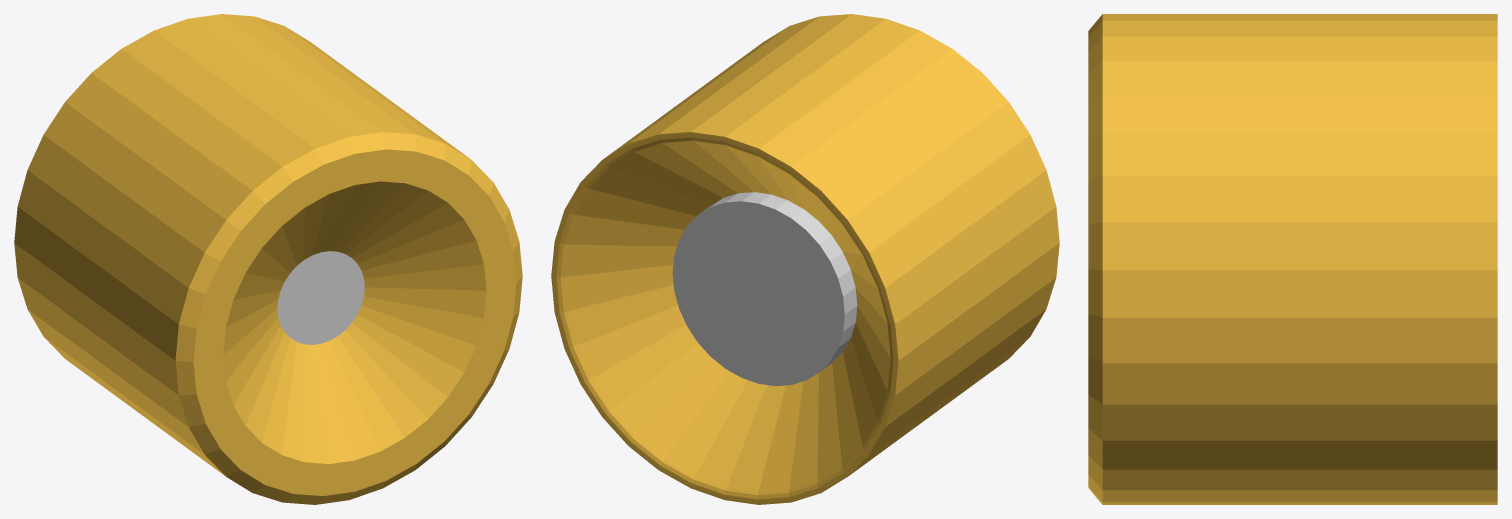
File: Wheel.glb
3 renders of one model, left to right at view 1: azimuth 30°, elevation 25°; view 2: azimuth 150°, elevation 25°; view 3: azimuth 270°, elevation 25°, orthographic. The views are drawn at different scales.
Parts seen in each view (by area): view 1: Cylinder; view 2: Cylinder; view 3: Cylinder.
Boxes of the visible parts, box(x1,y1,x2,y2) form: Cylinder: box(14, 14, 522, 504); Cylinder: box(551, 14, 1059, 504); Cylinder: box(1088, 14, 1497, 504).
Bounding box in the file's own units: 0.144 × 0.144 × 0.12.
